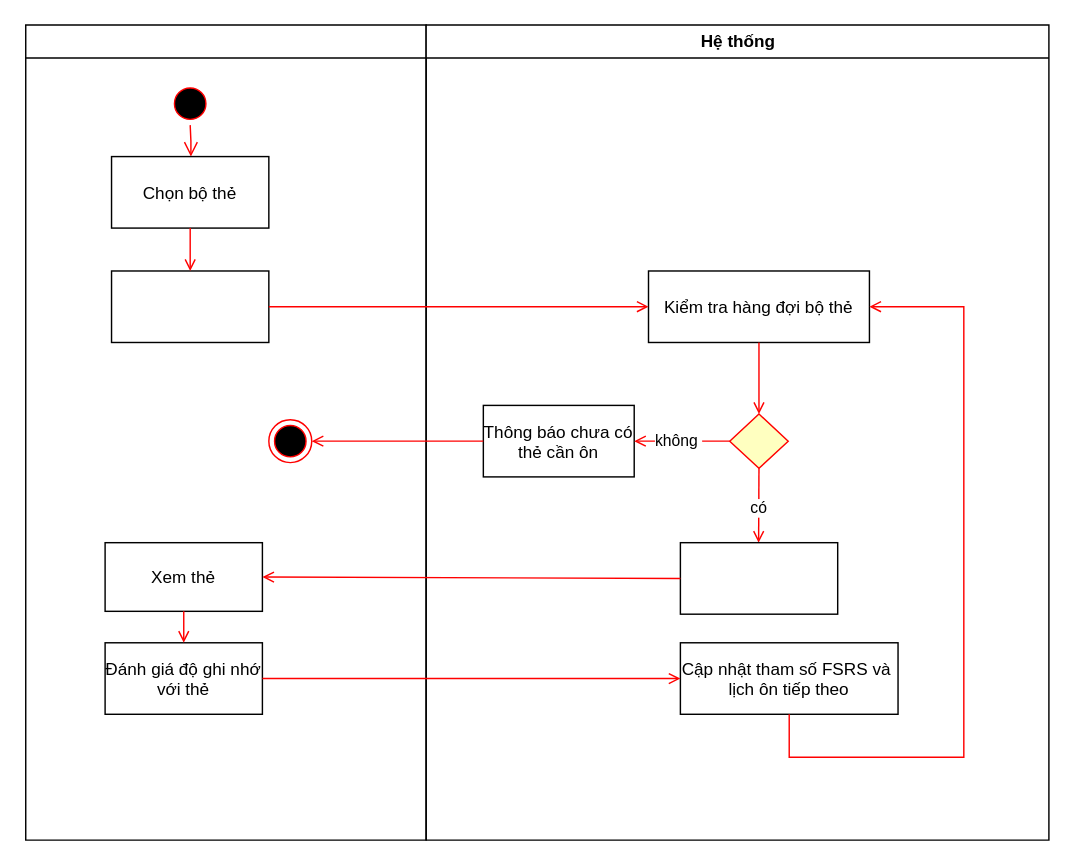
The diagram is 1074 pixels wide and 865 high, and some of its shapes have lost their labels. Each missing label, with the box of its shape:
Hiển thị các thẻ kế tiếp: (679, 541, 838, 614)
Người học: (24, 24, 426, 840)
Nhấn nút học ngay: (110, 270, 269, 342)
